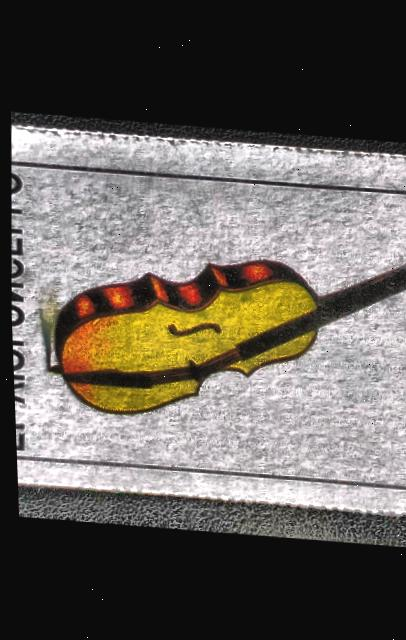El Violoncello: (4, 142, 406, 498)
